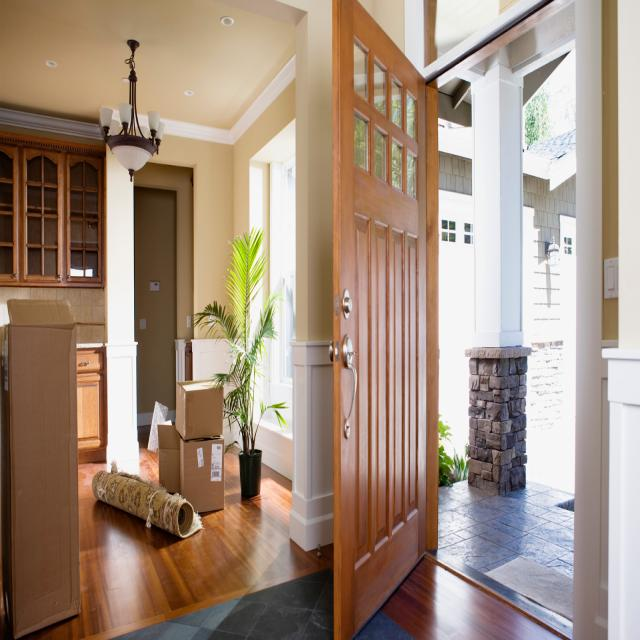OpenDoor: (423, 0, 584, 619)
